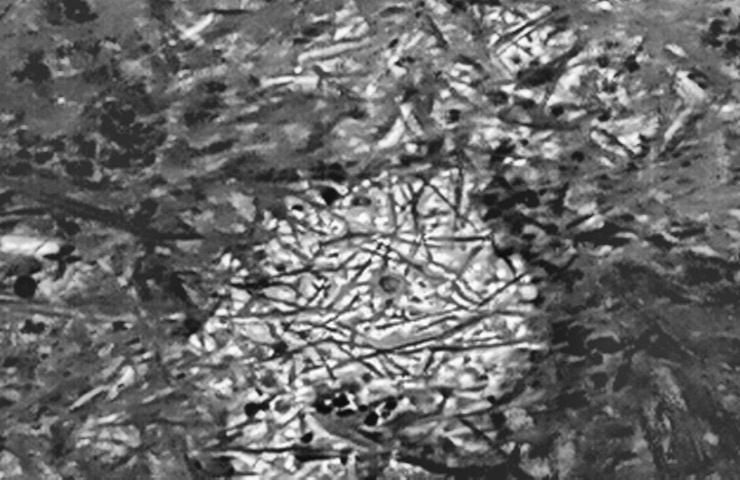landmines: (236, 167, 549, 453)
